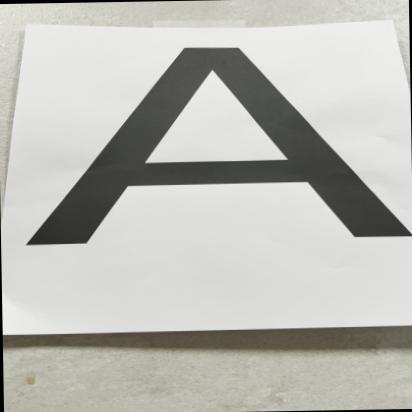seat: (0, 19, 412, 285)
